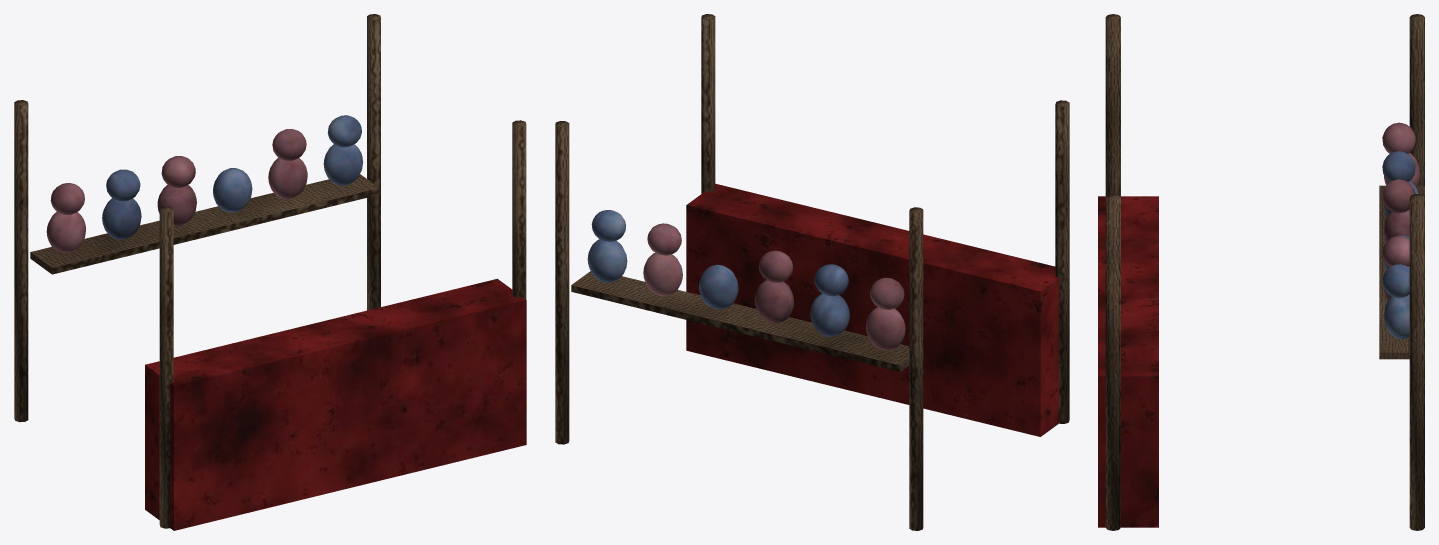
Rendered from stall_tent.glb.
3 renders of one model, left to right at view 1: azimuth 30°, elevation 25°; view 2: azimuth 150°, elevation 25°; view 3: azimuth 270°, elevation 25°, orthographic. The views are drawn at different scales.
Parts seen in each view (by area): view 1: Main; view 2: Main; view 3: Main.
Boxes of the visible parts, x1=… form: Main: x1=14, y1=14, x2=526, y2=530; Main: x1=555, y1=14, x2=1069, y2=530; Main: x1=1098, y1=14, x2=1424, y2=530.
Bounding box in the file's own units: 2.9 × 2.4 × 2.15.
1 material, 1 textured.
